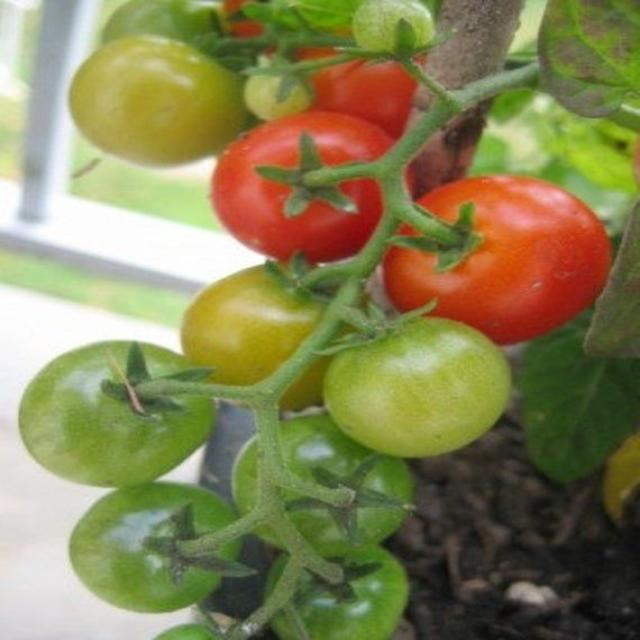level 1: (274, 33, 474, 165), (238, 416, 417, 554), (70, 483, 236, 618), (274, 549, 416, 640)
level 2: (21, 347, 227, 488), (101, 0, 258, 104), (348, 0, 441, 52), (234, 62, 312, 118)
level 3: (325, 318, 519, 455), (191, 268, 375, 406), (70, 40, 240, 164)
level 6: (384, 180, 611, 348), (214, 112, 398, 258)
